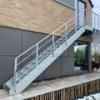stairs: (2, 22, 87, 96)
